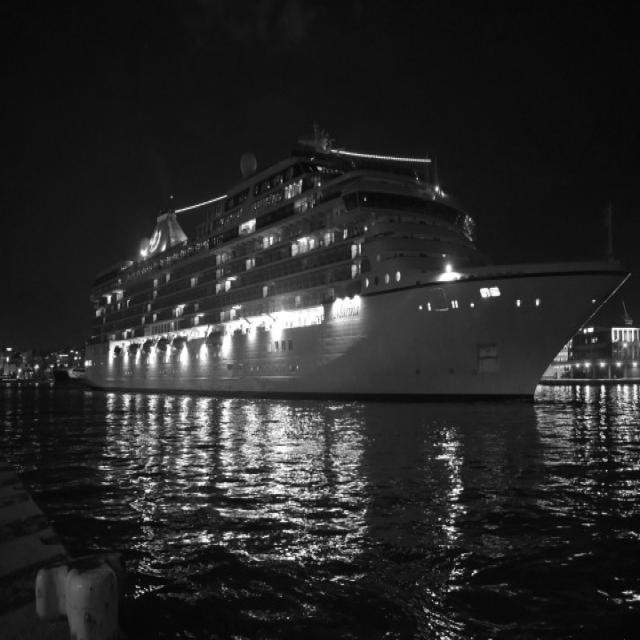cruises: (79, 117, 637, 414)
